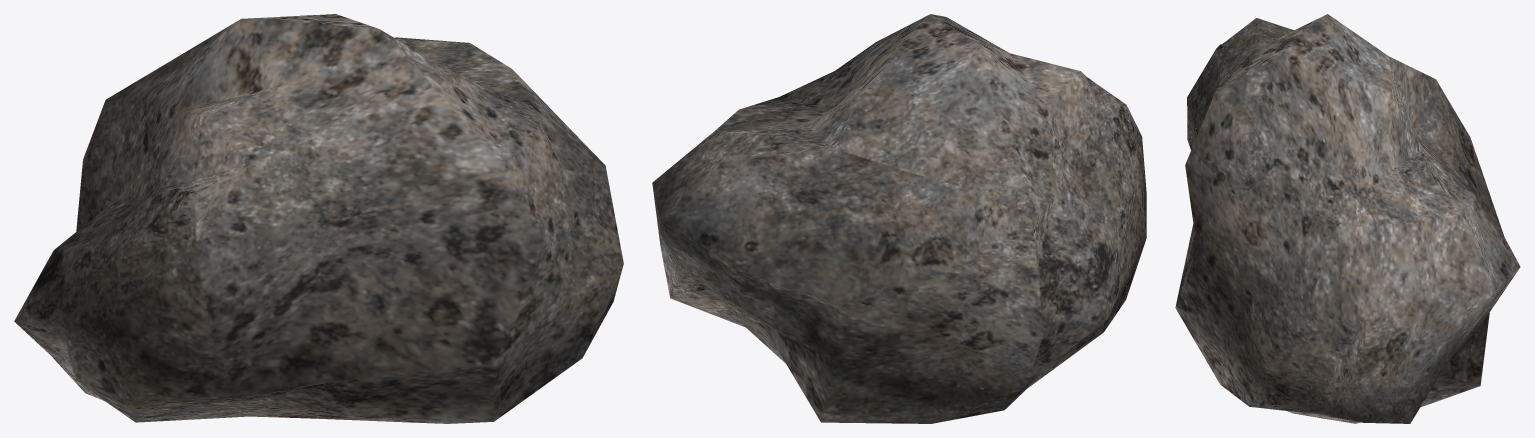
File: Rock2.fbx
3 renders of one model, left to right at view 1: azimuth 30°, elevation 25°; view 2: azimuth 150°, elevation 25°; view 3: azimuth 270°, elevation 25°, orthographic. The views are drawn at different scales.
Visible parts, largest first — view 1: Cube.002; view 2: Cube.002; view 3: Cube.002.
Boxes of the visible parts, x1,y1,x2,y2 form: Cube.002: (14, 14, 623, 423); Cube.002: (652, 14, 1146, 423); Cube.002: (1175, 14, 1520, 423).
Bounding box in the file's own units: 292 × 229 × 206.
1 material, 1 textured.
